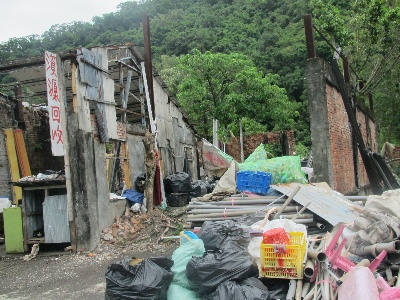plastic_bag: (186, 239, 260, 296), (101, 254, 177, 300), (163, 170, 191, 194)
